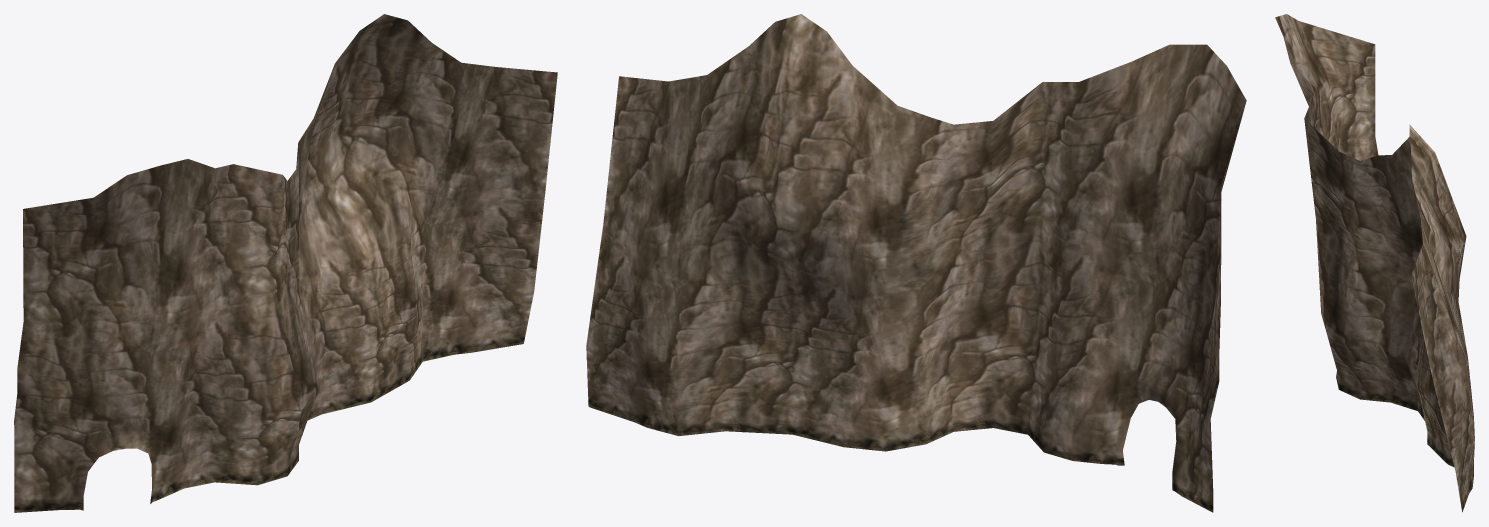
The model's file is OVERHILL_A_01_OBJECT142.fbx.
3 views of the same model, side by side, from view 1: azimuth 30°, elevation 25°; view 2: azimuth 150°, elevation 25°; view 3: azimuth 270°, elevation 25° (orthographic). The views are drawn at different scales.
Visible parts, largest first — view 1: OVERHILL_A_01_OBJECT142; view 2: OVERHILL_A_01_OBJECT142; view 3: OVERHILL_A_01_OBJECT142.
Part boxes in pixels (box(x1,y1,x2,y2)): OVERHILL_A_01_OBJECT142: box(14, 14, 557, 512); OVERHILL_A_01_OBJECT142: box(586, 14, 1246, 512); OVERHILL_A_01_OBJECT142: box(1275, 14, 1474, 512).
Bounding box in the file's own units: 192594 × 129492 × 73403.
2 materials, 2 textured.
